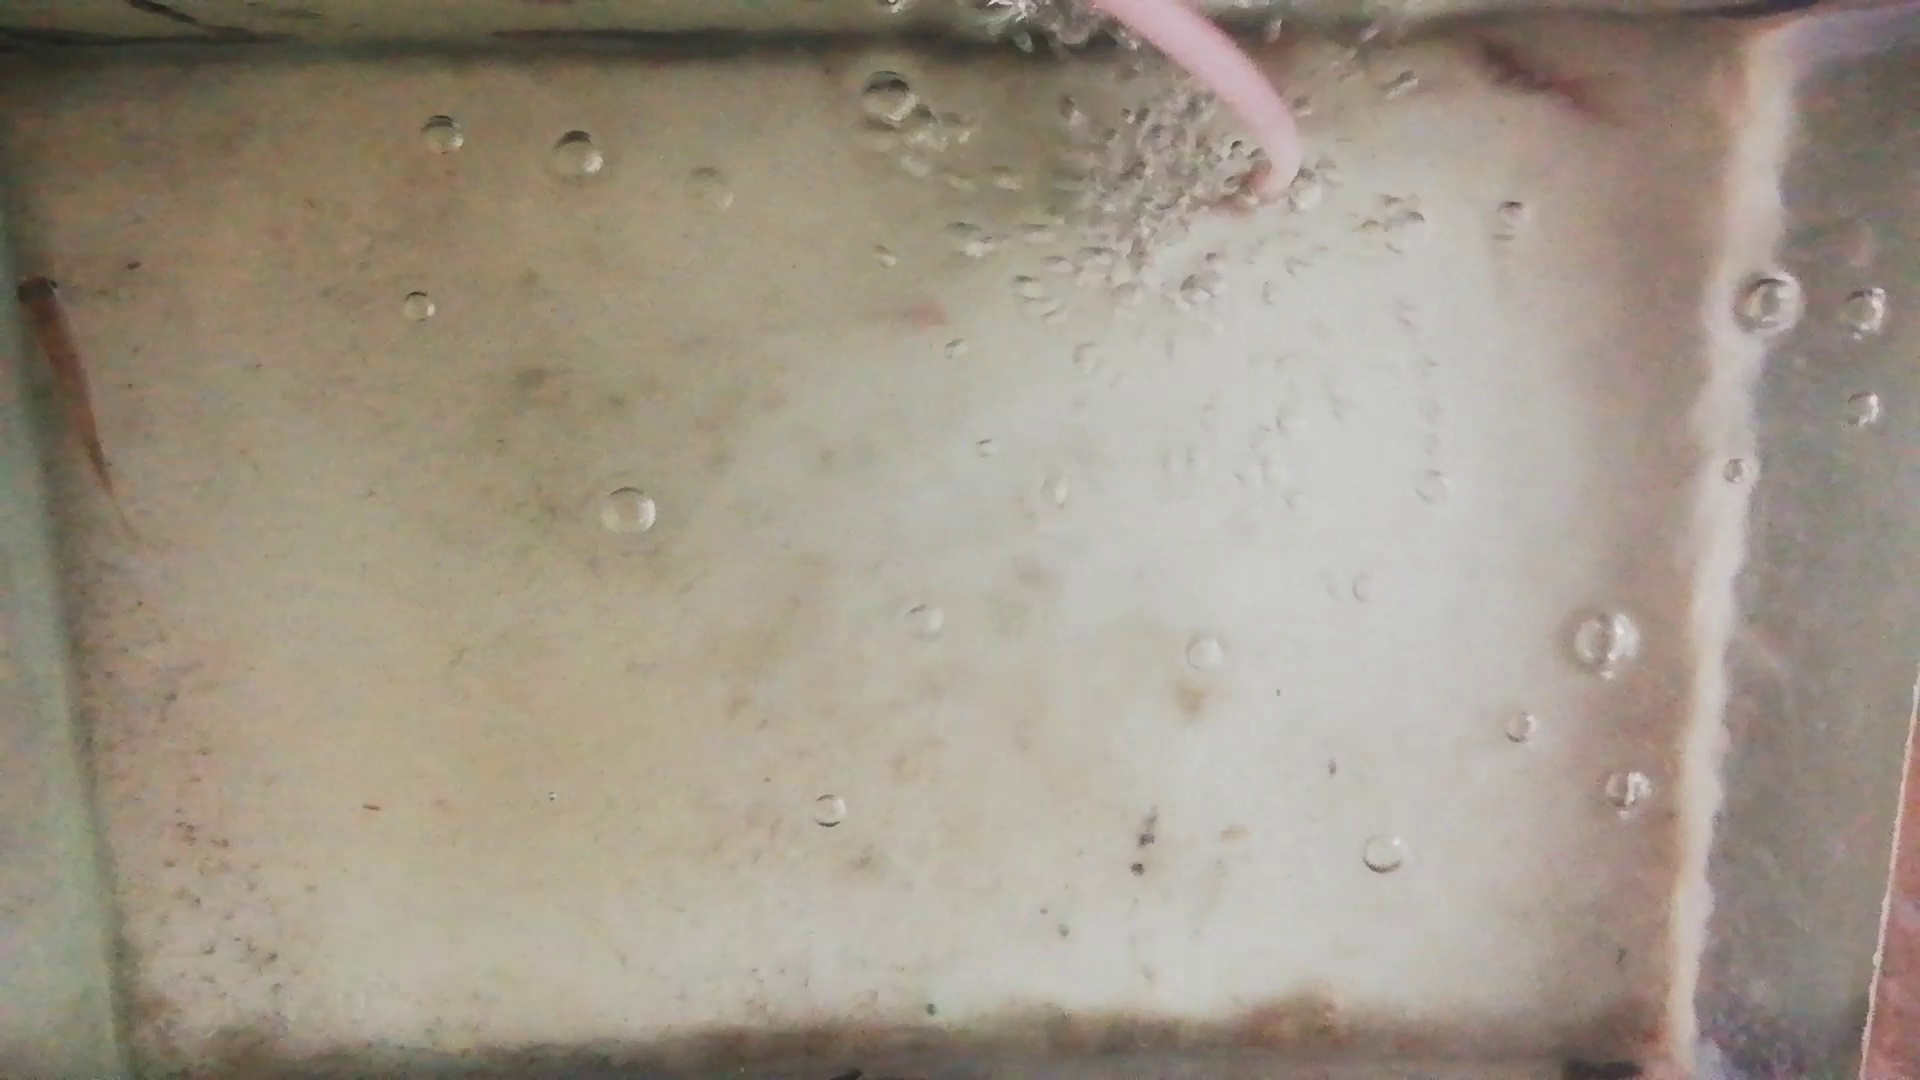fish: (11, 270, 119, 495), (1455, 28, 1607, 117)
